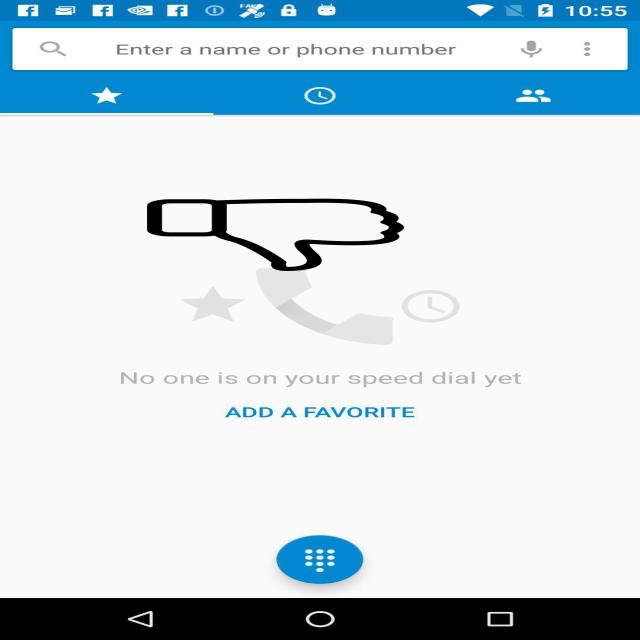obstruction: (143, 199, 408, 271)
